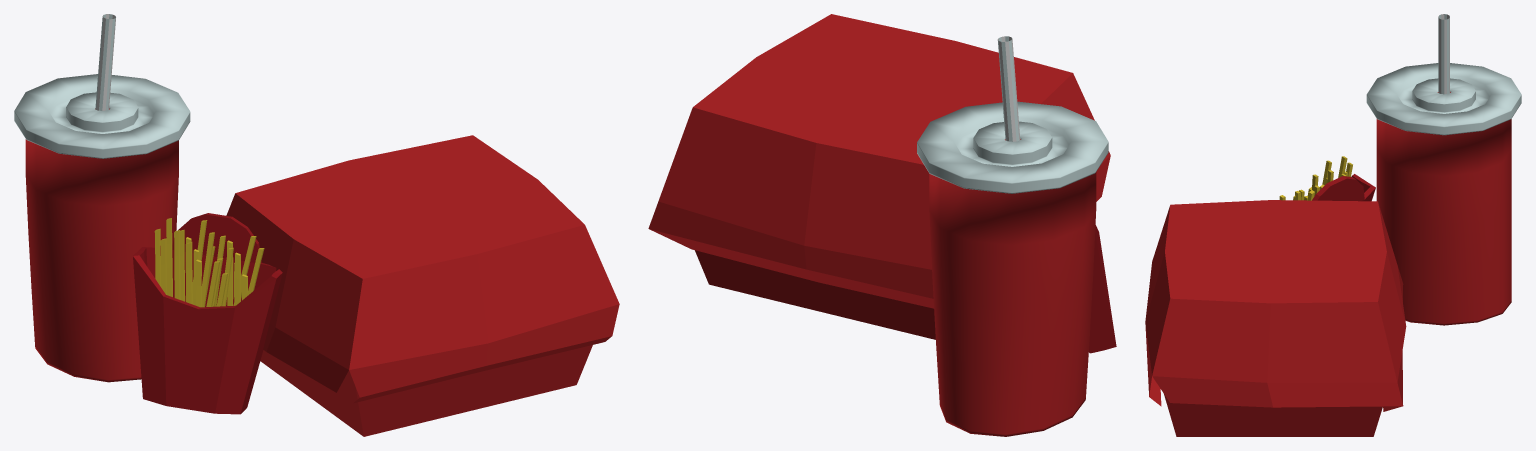
File: packaging.glb
3 views of the same model, side by side, from view 1: azimuth 30°, elevation 25°; view 2: azimuth 150°, elevation 25°; view 3: azimuth 270°, elevation 25° (orthographic). The views are drawn at different scales.
Visible parts, largest first — view 1: Object_7, Object_4, Object_8, Object_3, Object_5; view 2: Object_7, Object_8, Object_4, Object_5; view 3: Object_7, Object_8, Object_4, Object_3, Object_5.
Part boxes in pixels (box(x1,y1,x2,y2)): Object_7: box(25, 108, 619, 436); Object_4: box(133, 213, 282, 414); Object_8: box(14, 14, 190, 158); Object_3: box(154, 218, 264, 307); Object_5: box(96, 14, 115, 110); Object_7: box(648, 14, 1110, 436); Object_8: box(917, 36, 1108, 193); Object_4: box(1089, 225, 1116, 353); Object_5: box(998, 36, 1020, 141); Object_7: box(1145, 92, 1511, 436); Object_8: box(1366, 14, 1521, 135); Object_4: box(1312, 174, 1375, 201); Object_3: box(1279, 156, 1352, 200); Object_5: box(1438, 14, 1449, 94).
Bounding box in the file's own units: 6.49 × 4.72 × 5.58.
